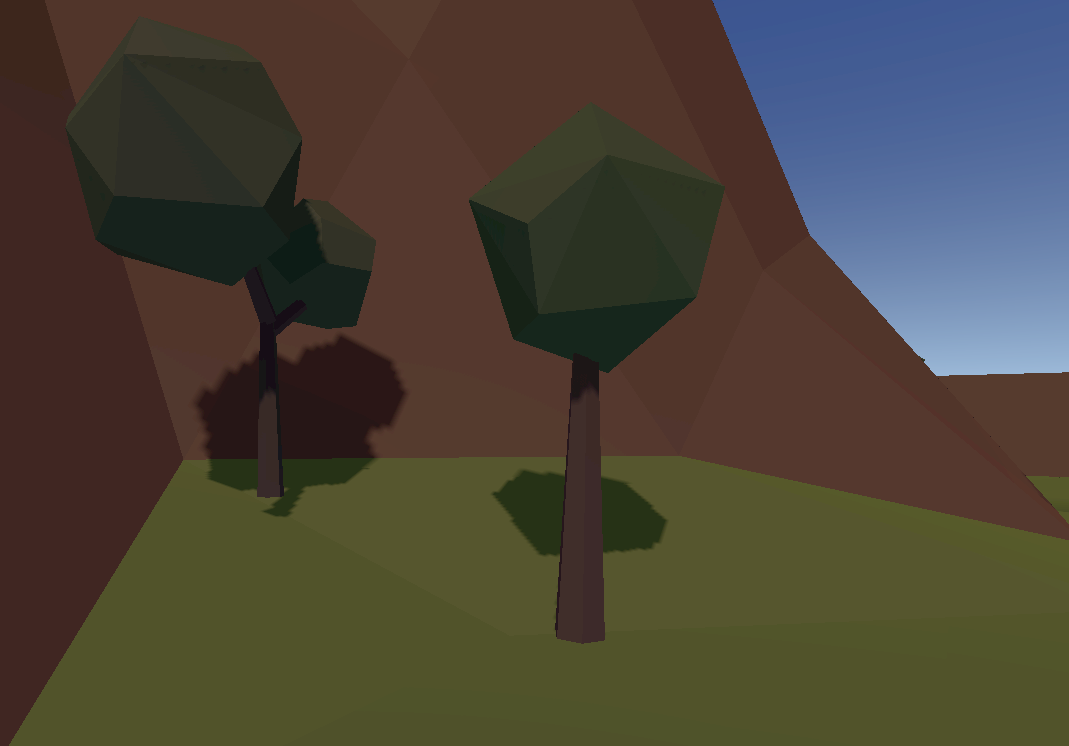tree: (65, 16, 376, 498), (465, 103, 729, 634)
